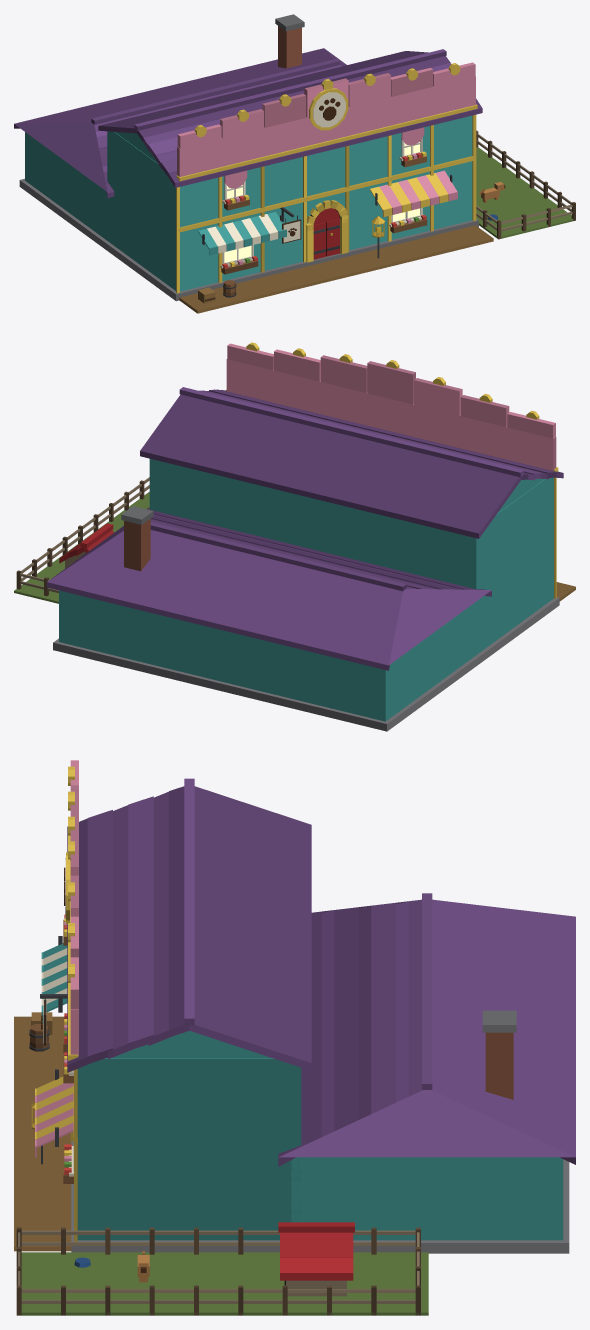
The model's file is pet_emporium.glb.
3 views of the same model, one above another, from view 1: azimuth 30°, elevation 25°; view 2: azimuth 150°, elevation 25°; view 3: azimuth 270°, elevation 25° (orthographic). The views are drawn at different scales.
Parts seen in each view (by area): view 1: pet_emporium_body, pet_emporium_ground; view 2: pet_emporium_body, pet_emporium_ground; view 3: pet_emporium_body, pet_emporium_ground.
Boxes of the visible parts, x1,y1,x2,y2 form: pet_emporium_body: (14,14,575,303); pet_emporium_ground: (179,147,573,313); pet_emporium_body: (16,342,563,731); pet_emporium_ground: (14,492,575,603); pet_emporium_body: (16,760,575,1315); pet_emporium_ground: (14,1016,428,1315).
Size of the model in its own units: 20.74 by 9.46 by 16.43.
